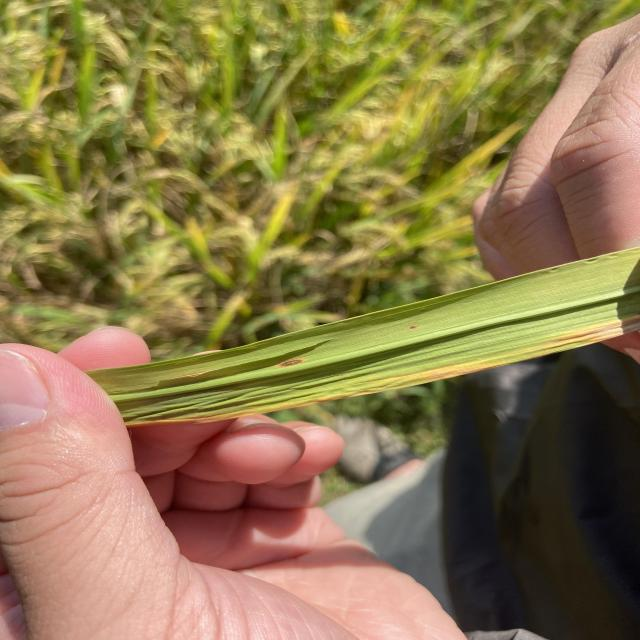Dom nau: (280, 359, 302, 366), (411, 326, 415, 329)
